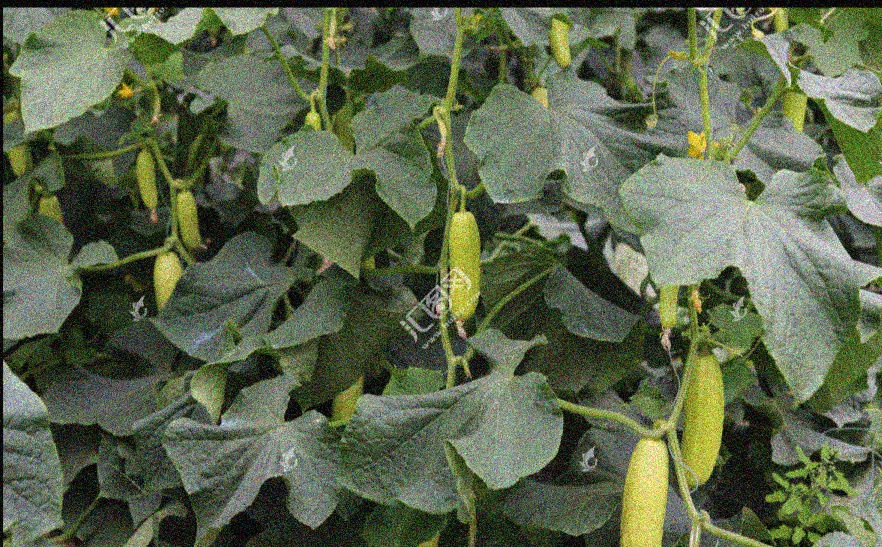cucumber_plant: (637, 122, 853, 397), (179, 385, 555, 528), (19, 8, 177, 137)
